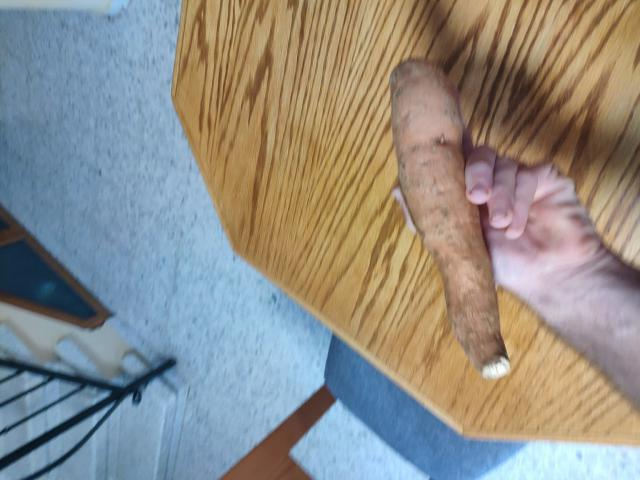sweet_potato: (369, 71, 514, 369)
